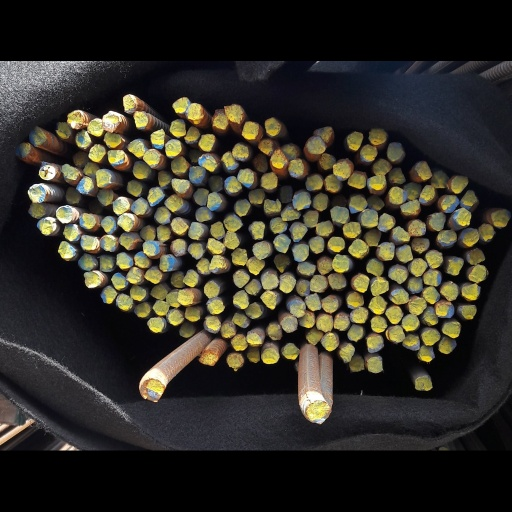dipstick: (304, 444, 330, 477), (139, 418, 164, 449), (29, 84, 48, 112), (209, 255, 230, 280), (468, 267, 489, 292), (388, 267, 408, 293), (408, 258, 428, 284), (289, 211, 308, 238), (103, 65, 121, 93), (36, 205, 57, 229), (426, 247, 444, 274), (126, 102, 146, 126), (329, 189, 349, 213), (27, 162, 46, 187), (348, 233, 367, 258), (307, 97, 326, 122), (460, 219, 479, 244), (117, 199, 135, 225), (460, 169, 478, 195), (446, 257, 464, 283), (435, 316, 455, 339), (461, 292, 481, 315), (415, 130, 432, 157), (164, 174, 183, 198), (438, 361, 457, 385), (292, 171, 311, 195), (491, 194, 510, 218), (132, 130, 150, 155), (221, 118, 239, 143), (252, 236, 270, 261), (321, 306, 339, 331), (368, 308, 386, 333), (431, 143, 449, 168), (270, 115, 287, 141), (273, 227, 290, 253), (421, 323, 438, 349), (441, 289, 458, 315), (389, 299, 409, 321), (258, 101, 277, 124), (57, 236, 75, 260), (62, 213, 80, 237), (143, 116, 161, 140), (225, 56, 243, 80), (199, 121, 217, 145), (366, 360, 384, 384), (385, 322, 403, 346), (349, 176, 367, 200), (67, 65, 84, 90), (147, 165, 164, 190), (164, 102, 181, 127), (237, 141, 254, 166), (273, 253, 290, 278), (321, 356, 338, 381), (332, 253, 349, 278), (451, 149, 468, 174), (396, 241, 413, 266), (401, 182, 421, 203), (206, 310, 225, 332), (223, 202, 242, 224), (442, 342, 461, 364), (313, 85, 332, 107), (373, 128, 392, 150), (423, 274, 442, 296), (288, 129, 304, 155), (347, 92, 363, 118), (186, 55, 204, 78), (39, 132, 57, 155), (80, 227, 98, 250), (112, 178, 130, 201), (241, 80, 259, 103), (281, 107, 299, 130), (282, 370, 300, 393), (247, 257, 265, 280), (310, 281, 328, 304), (328, 278, 346, 301), (389, 164, 407, 187), (404, 159, 422, 182), (441, 176, 459, 199), (453, 193, 471, 216), (77, 151, 94, 175), (100, 295, 117, 319), (130, 179, 147, 203), (264, 74, 281, 98), (232, 108, 249, 132), (232, 301, 249, 325), (279, 281, 296, 305), (361, 194, 378, 218), (428, 199, 445, 223), (213, 63, 228, 90), (87, 74, 103, 99), (101, 203, 117, 228), (305, 304, 321, 329), (338, 372, 354, 397), (281, 190, 301, 210), (107, 116, 126, 137), (370, 287, 389, 308), (368, 88, 387, 109), (408, 312, 427, 333), (172, 46, 190, 68), (61, 134, 79, 156), (245, 317, 263, 339), (280, 335, 298, 357), (89, 109, 106, 132), (77, 253, 94, 276), (116, 305, 133, 328), (111, 278, 128, 301), (171, 205, 188, 228), (145, 270, 162, 293), (204, 335, 221, 358), (224, 151, 241, 174), (261, 145, 278, 168), (298, 328, 315, 351), (316, 333, 333, 356), (370, 334, 387, 357), (366, 260, 383, 283), (292, 240, 309, 263), (388, 139, 405, 162), (423, 295, 440, 318), (207, 171, 222, 197), (199, 95, 215, 119), (171, 233, 187, 257), (188, 211, 204, 235), (234, 181, 250, 205), (231, 245, 247, 269), (261, 302, 277, 326), (348, 385, 364, 409), (387, 107, 403, 131), (419, 162, 435, 186), (378, 200, 394, 224), (171, 154, 190, 174), (199, 381, 218, 401), (261, 378, 280, 398), (347, 147, 366, 167), (367, 150, 386, 170), (437, 222, 456, 242), (142, 236, 160, 257), (207, 232, 225, 253), (226, 383, 244, 404), (232, 330, 250, 351), (261, 279, 279, 300), (402, 360, 420, 381), (422, 352, 440, 373), (367, 176, 385, 197), (343, 211, 361, 232), (76, 90, 91, 115), (133, 65, 148, 90), (253, 122, 268, 147), (210, 210, 225, 235), (379, 237, 394, 262), (317, 256, 332, 281), (313, 172, 328, 197), (79, 199, 96, 221), (83, 276, 100, 298), (126, 271, 143, 293), (116, 251, 133, 273), (306, 352, 323, 374), (388, 348, 405, 370), (418, 373, 435, 395), (402, 332, 419, 354), (360, 110, 377, 132), (468, 245, 485, 267), (170, 76, 186, 99), (96, 143, 112, 166), (56, 190, 72, 213), (154, 191, 170, 214), (189, 138, 205, 161), (168, 325, 184, 348), (179, 341, 195, 364), (233, 275, 249, 298), (290, 314, 306, 337), (334, 331, 350, 354), (353, 281, 369, 304), (325, 149, 341, 172), (16, 106, 31, 130), (103, 93, 121, 113), (99, 254, 114, 278), (204, 288, 219, 312), (224, 224, 239, 248), (249, 210, 264, 234), (366, 219, 381, 243), (392, 217, 410, 237), (411, 232, 429, 252), (147, 336, 164, 357), (134, 316, 151, 337), (171, 126, 188, 147), (150, 293, 167, 314), (177, 300, 194, 321), (195, 191, 212, 212), (244, 286, 261, 307), (270, 205, 287, 226), (350, 324, 367, 345), (347, 304, 364, 325), (316, 209, 333, 230), (328, 230, 345, 251), (333, 132, 350, 153), (408, 209, 425, 230), (100, 230, 116, 252), (134, 250, 150, 272), (367, 388, 383, 410), (347, 346, 363, 368), (407, 284, 423, 306), (123, 44, 137, 69), (56, 80, 71, 103), (73, 118, 88, 141), (119, 226, 134, 249), (156, 214, 171, 237), (159, 254, 174, 277), (183, 274, 198, 297), (193, 167, 208, 190), (208, 149, 223, 172), (303, 195, 318, 218), (414, 414, 432, 433), (28, 187, 45, 207), (264, 180, 281, 200), (305, 149, 322, 169), (151, 89, 164, 115), (231, 360, 247, 381), (246, 354, 262, 375), (98, 167, 113, 189), (127, 156, 142, 178), (196, 258, 211, 280), (309, 230, 324, 252), (479, 214, 494, 236), (296, 286, 310, 309), (130, 295, 146, 315), (153, 314, 169, 334), (248, 167, 264, 187), (266, 346, 282, 366), (185, 86, 200, 107), (188, 239, 203, 260), (320, 121, 335, 142), (280, 163, 293, 187), (66, 166, 80, 188), (297, 264, 315, 281), (140, 215, 155, 235), (461, 319, 476, 339), (166, 303, 180, 324), (170, 277, 184, 298), (158, 143, 171, 165), (221, 344, 235, 364), (247, 376, 260, 397)
